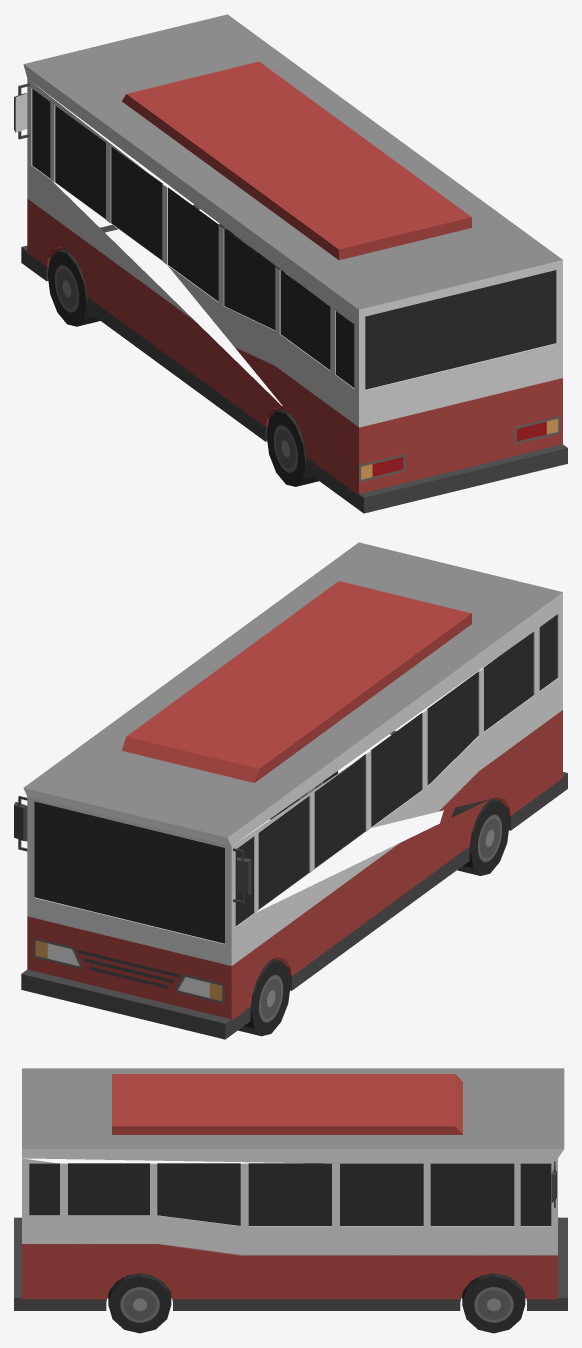
Rendered from bus_v2.gltf.
3 renders of one model, top to bottom at view 1: azimuth 30°, elevation 25°; view 2: azimuth 150°, elevation 25°; view 3: azimuth 270°, elevation 25°, orthographic. The views are drawn at different scales.
Visible parts, largest first — view 1: bus_v2; view 2: bus_v2; view 3: bus_v2.
Boxes of the visible parts, <box> form: bus_v2: <box>14,14,567,513</box>; bus_v2: <box>14,542,567,1039</box>; bus_v2: <box>14,1068,567,1333</box>.
Size of the model in its own units: 3.69 by 3.58 by 9.3.
Materials: 1 (1 with a texture image).
